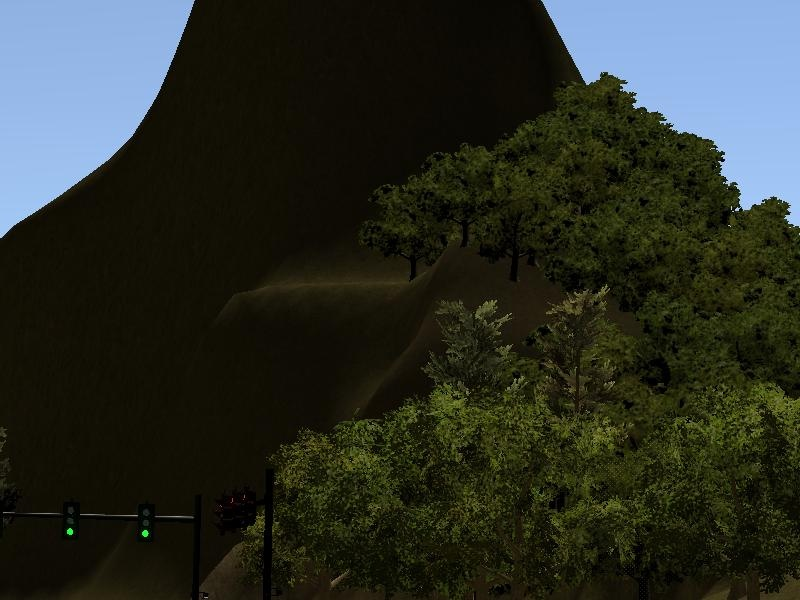GREEN: (59, 493, 79, 543), (135, 503, 156, 547)
